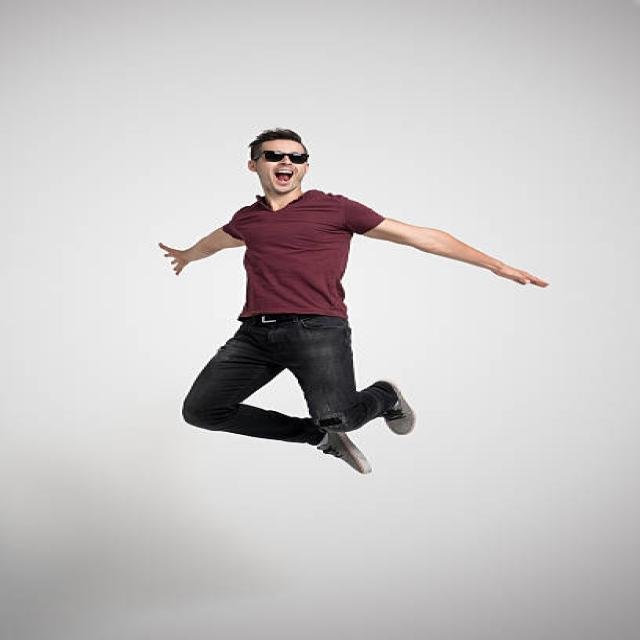Edited images: (142, 122, 549, 486)
